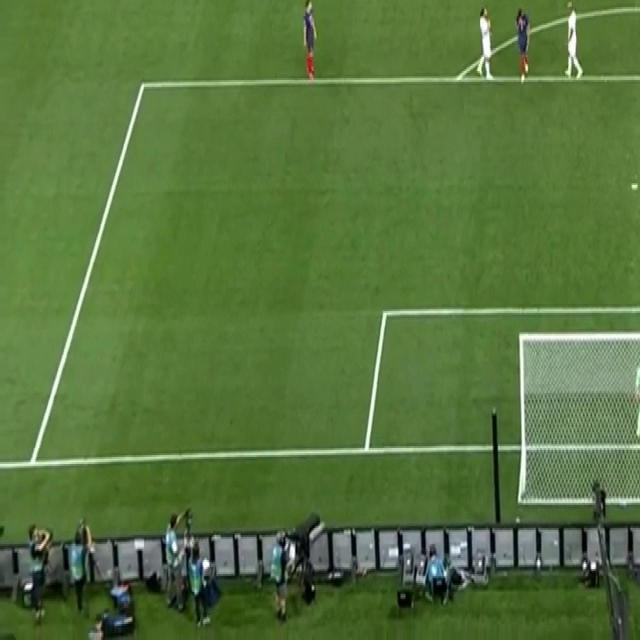player-white: (473, 2, 497, 88), (563, 0, 586, 86), (512, 3, 534, 91), (300, 0, 319, 84), (634, 327, 640, 441)
